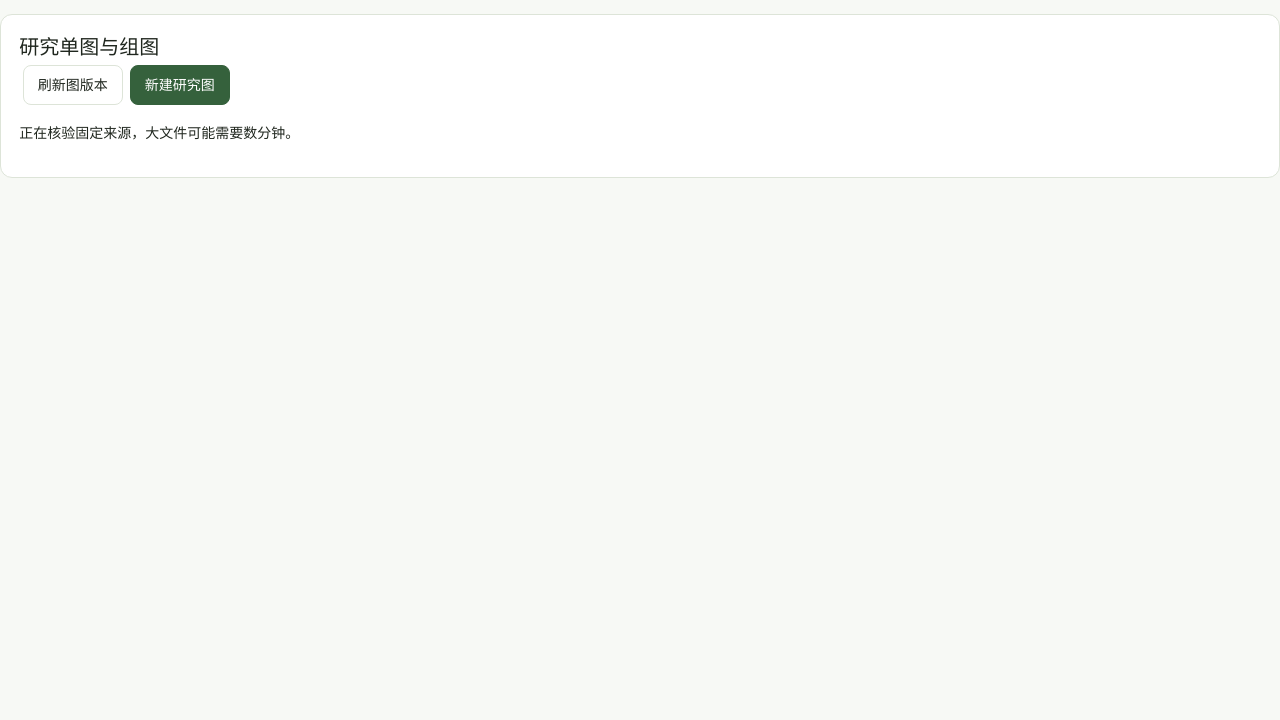
Scenario: opens figure history without presenting a creation form or submitting work
Click the button "新建研究图" at (180, 85), box [130, 65, 230, 105]
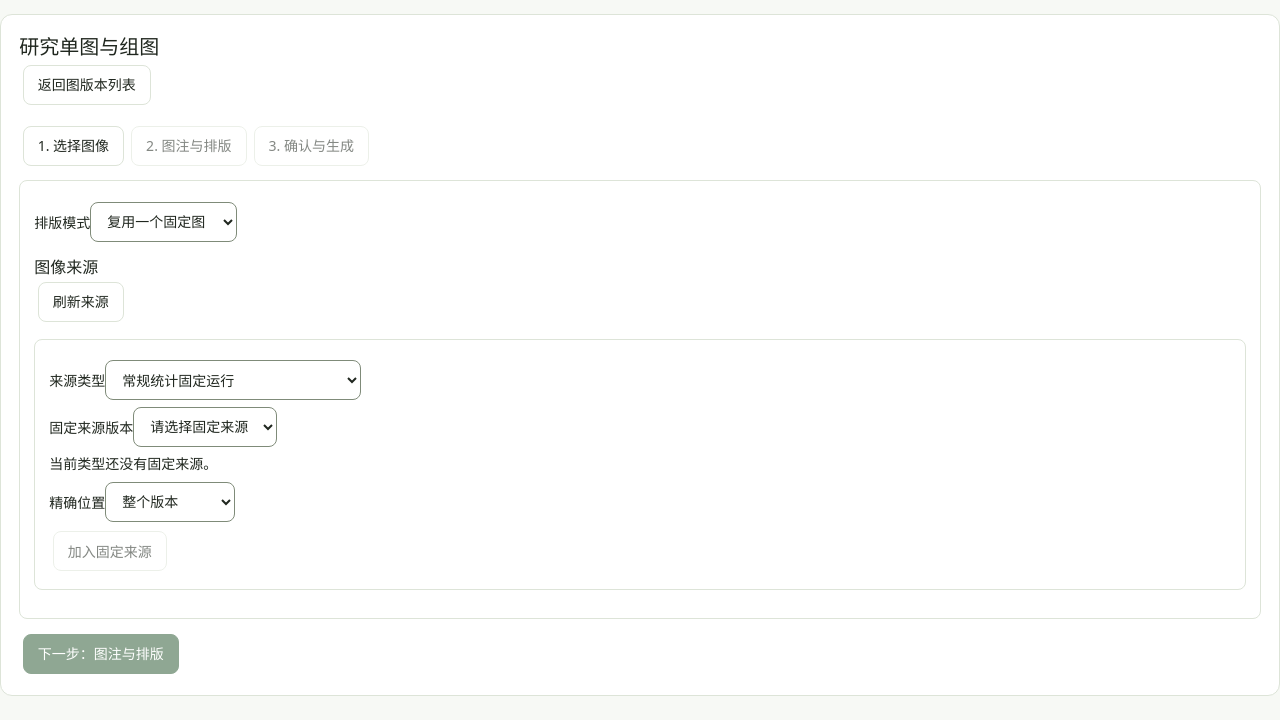
Expected: the button "3. 确认与生成" is disabled, [254, 126, 369, 166]
